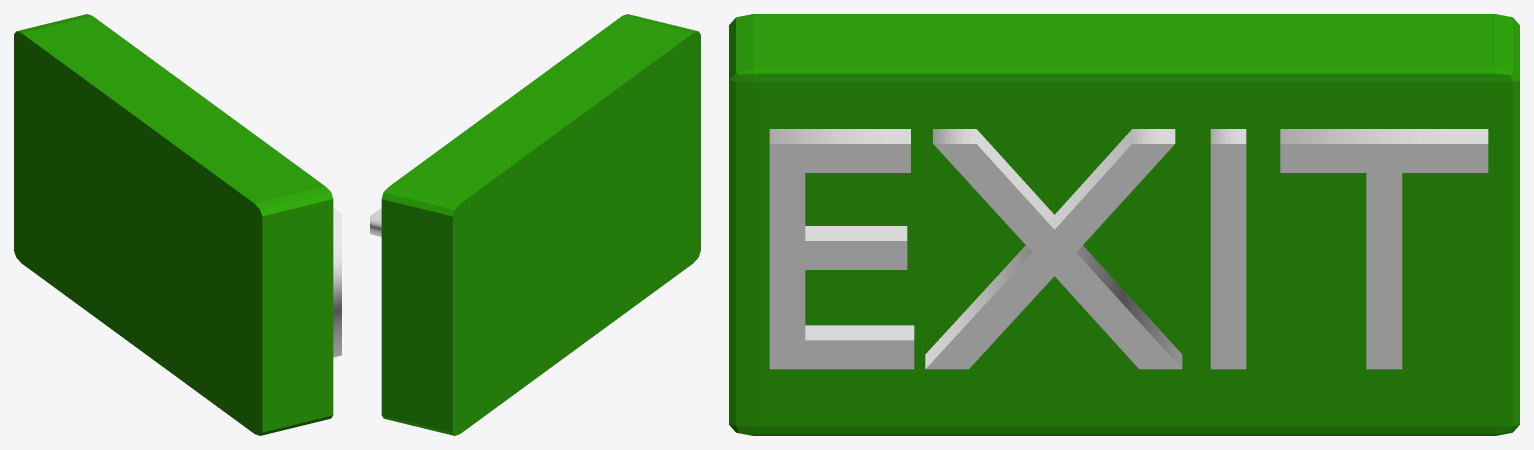
File: exitsign.fbx
The picture shows the model from 3 angles, left to right: view 1: azimuth 30°, elevation 25°; view 2: azimuth 150°, elevation 25°; view 3: azimuth 270°, elevation 25°; orthographic projection. The views are drawn at different scales.
Parts seen in each view (by area): view 1: Cube; view 2: Cube; view 3: Cube.
Part boxes in pixels (x1,y1,x2,y2): Cube: [14, 14, 341, 435]; Cube: [370, 14, 700, 435]; Cube: [729, 14, 1519, 435].
Bounding box in the file's own units: 90.47 × 216 × 421.
